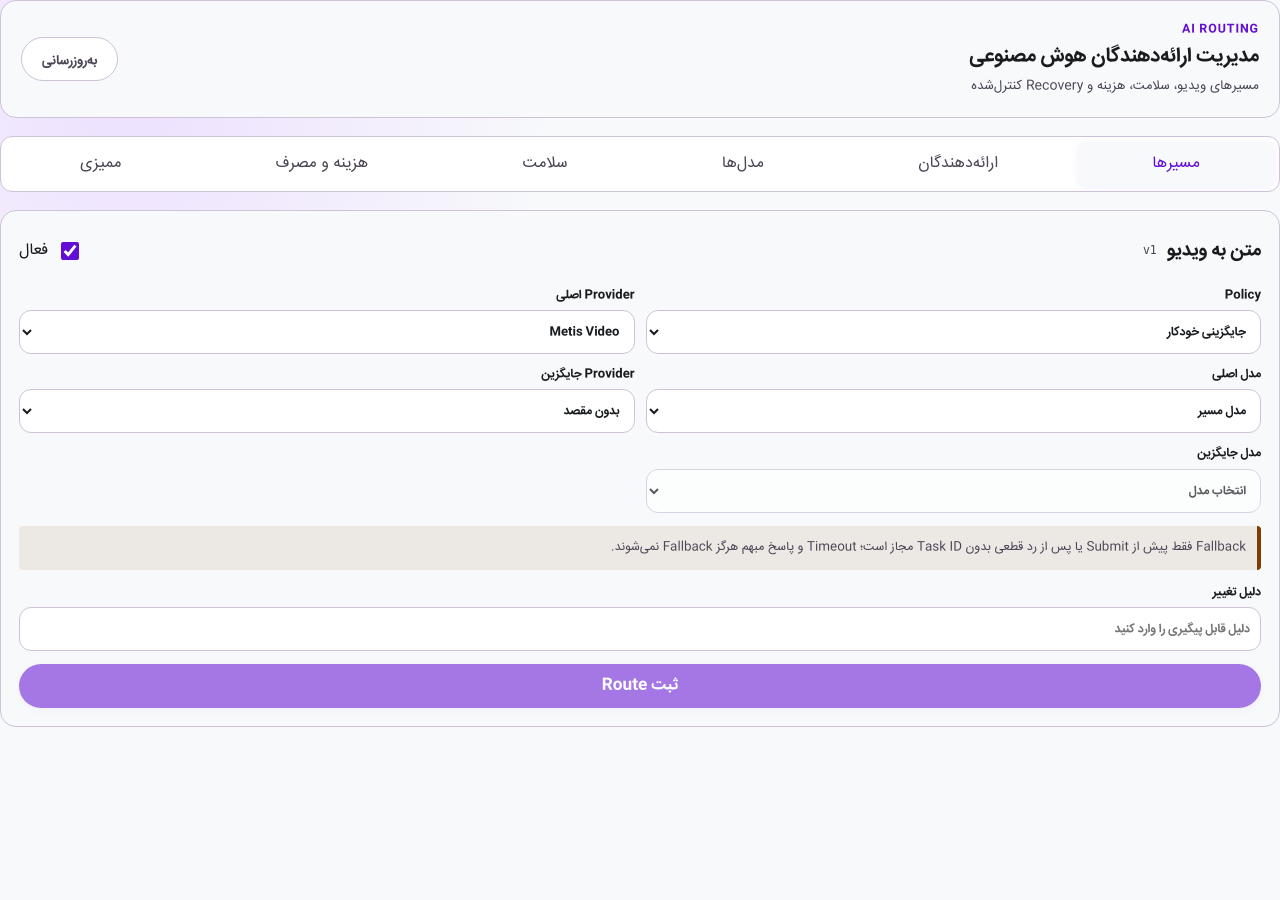
Test case: AiProviderManagement › requires a reason and confirmation before an optimistic route write
expect the button "ثبت Route" is disabled: met, box [19,664,1261,708]
Type "تغییر کنترل‌شده مسیر" into the field labelled "دلیل تغییر". click: (640, 629)
box: [19,607,1261,651]
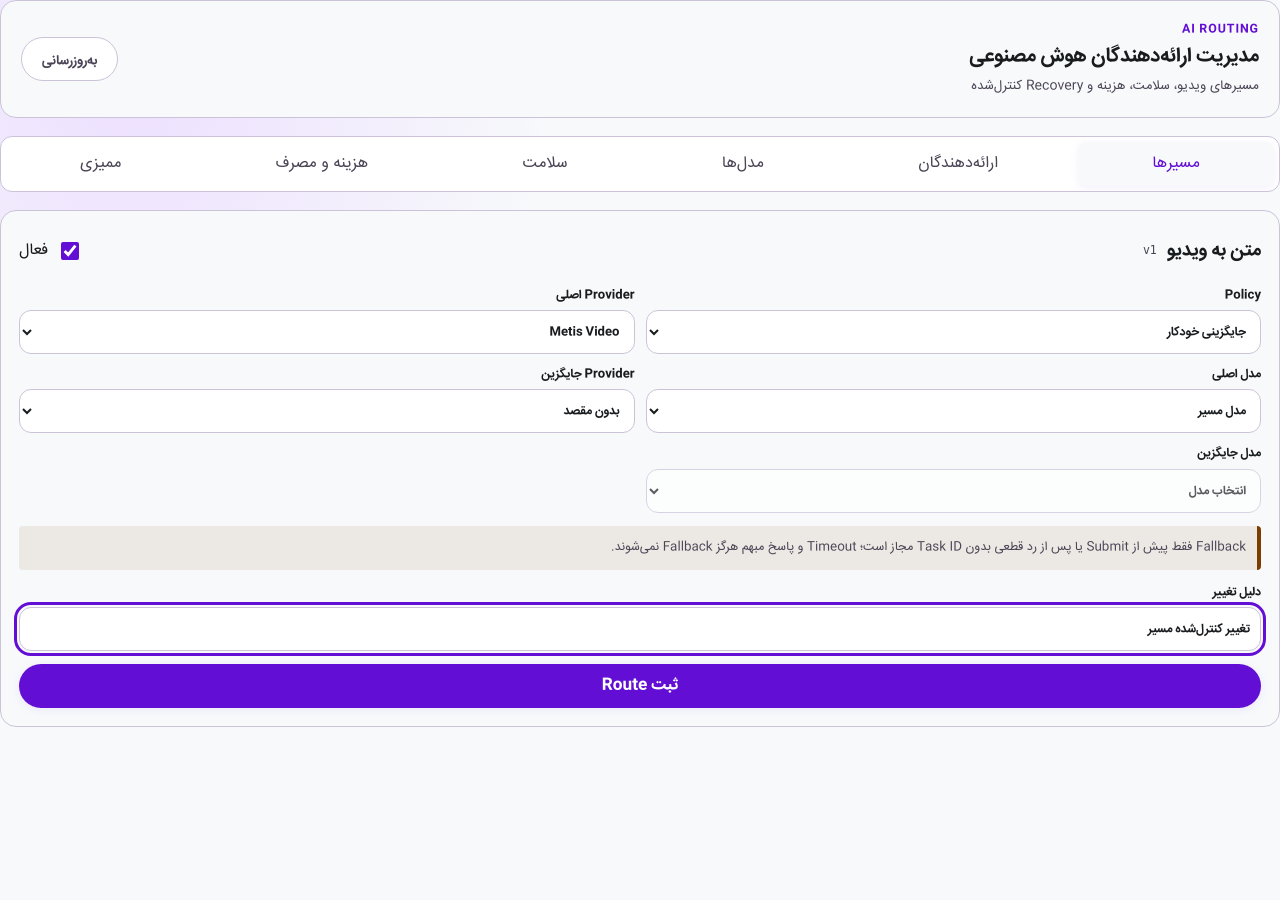
expect the button "ثبت Route" is enabled: met
Click the button "ثبت Route". click: click(640, 686)
box: [19,664,1261,708]
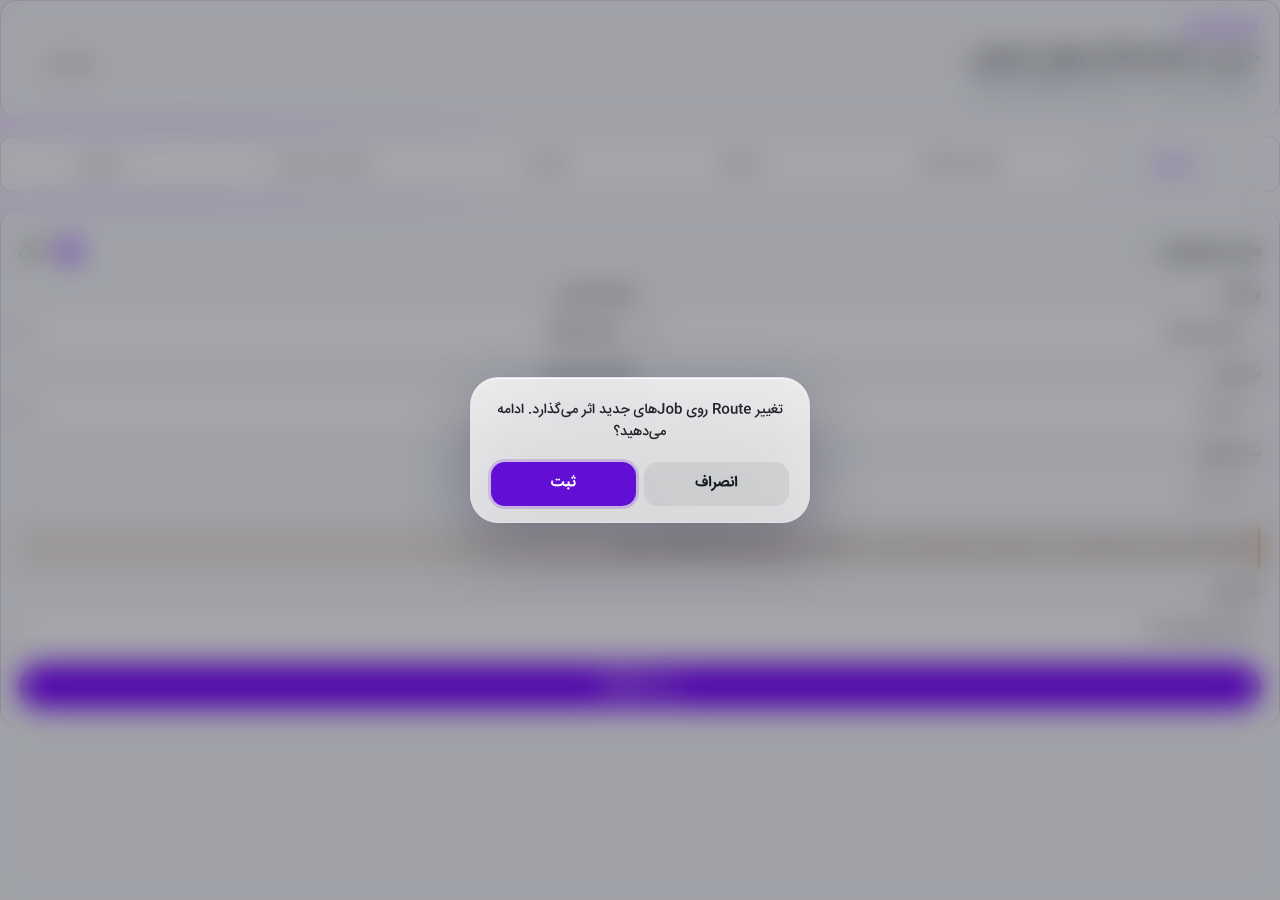
Click the button "ثبت". click: click(564, 484)
box: [491,462,636,506]
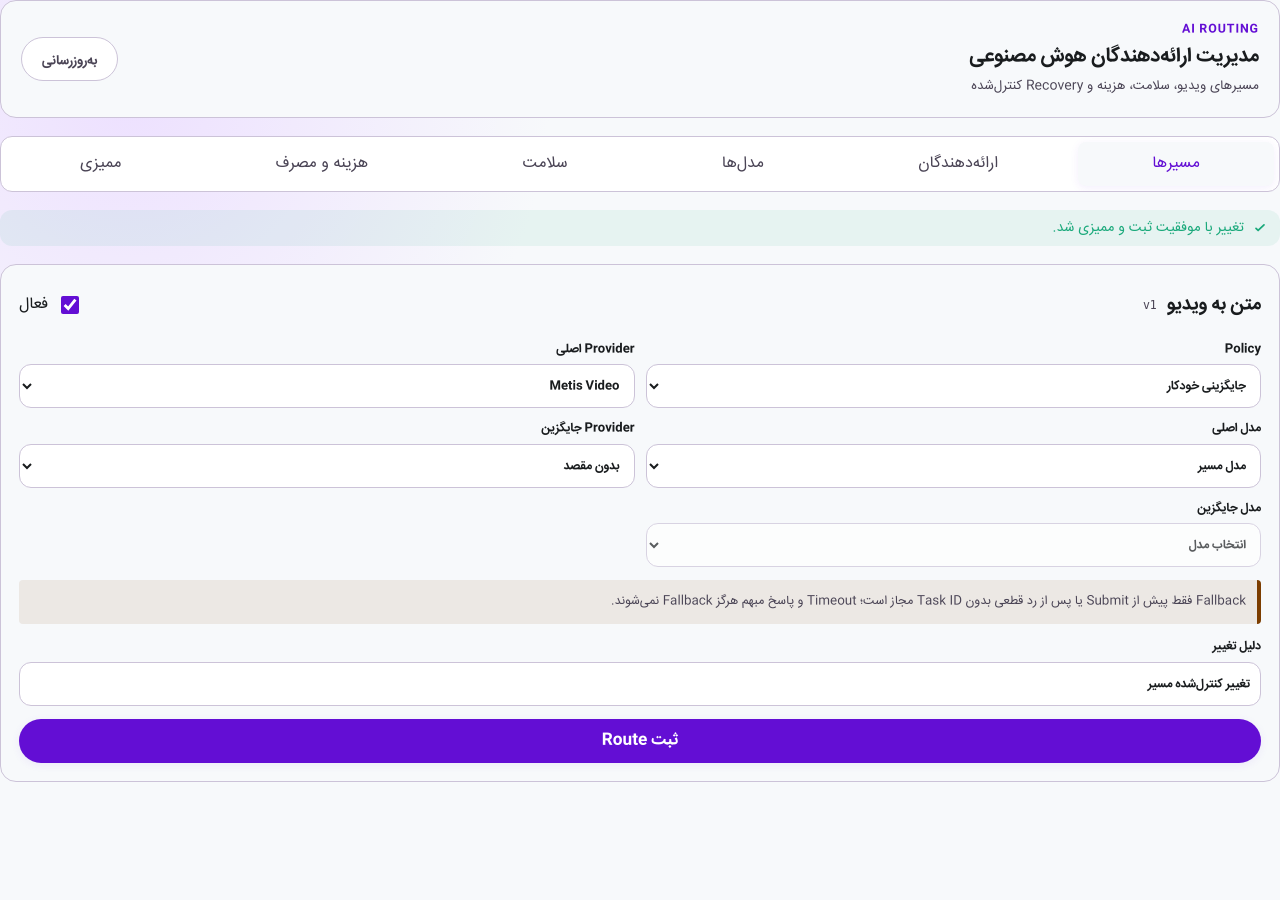
expect the dialog with class "ds-confirm" is gone: met
